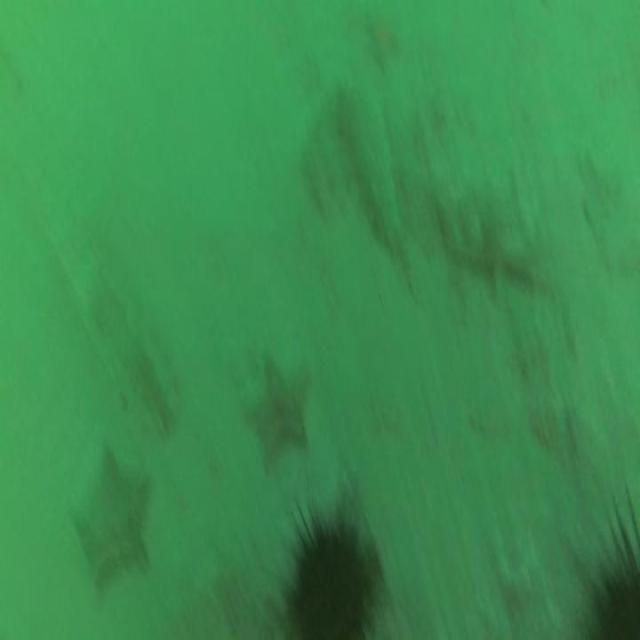echinus: (292, 521, 370, 640)
starfish: (66, 441, 149, 589), (242, 357, 310, 465)
